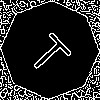T: (25, 25, 79, 78)
